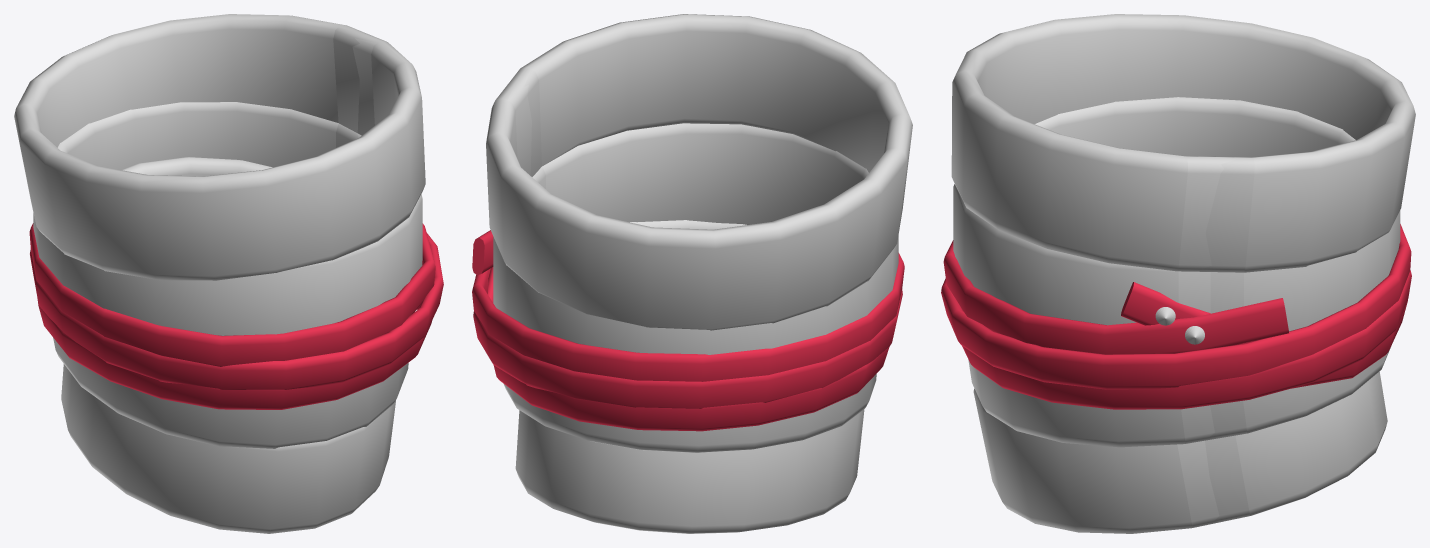
File: thigh_pos_tourniquet.fbx
The picture shows the model from 3 angles, left to right: view 1: azimuth 30°, elevation 25°; view 2: azimuth 150°, elevation 25°; view 3: azimuth 270°, elevation 25°; orthographic projection. The views are drawn at different scales.
Parts seen in each view (by area): view 1: Бинт+жгут; view 2: Бинт+жгут; view 3: Бинт+жгут.
Boxes of the visible parts, x1,y1,x2,y2 form: Бинт+жгут: (14,14,443,533); Бинт+жгут: (472,14,912,533); Бинт+жгут: (941,14,1415,533).
Bounding box in the file's own units: 17.89 × 18.4 × 18.84.
